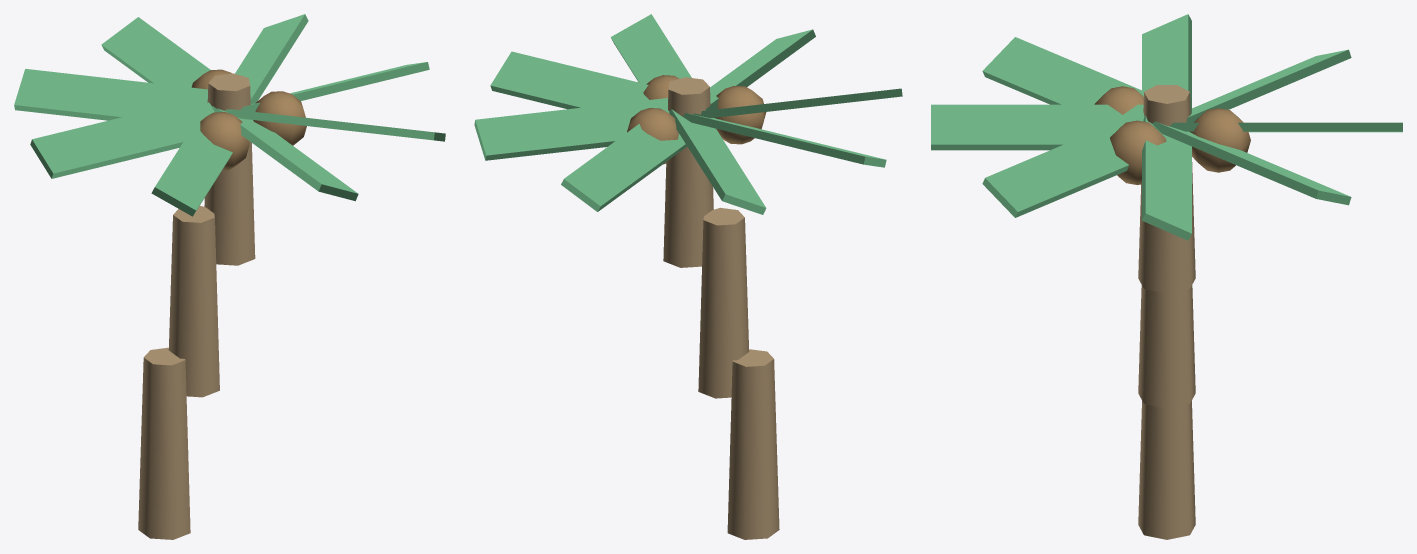
File: coqueiro.glb
3 renders of one model, left to right at view 1: azimuth 30°, elevation 25°; view 2: azimuth 150°, elevation 25°; view 3: azimuth 270°, elevation 25°, orthographic. The views are drawn at different scales.
Parts seen in each view (by area): view 1: root; view 2: root; view 3: root.
Boxes of the visible parts, x1,y1,x2,y2 form: root: [14, 14, 445, 539]; root: [474, 14, 902, 539]; root: [931, 14, 1402, 539].
Size of the model in its own units: 3.2 by 3.5 by 3.2.
